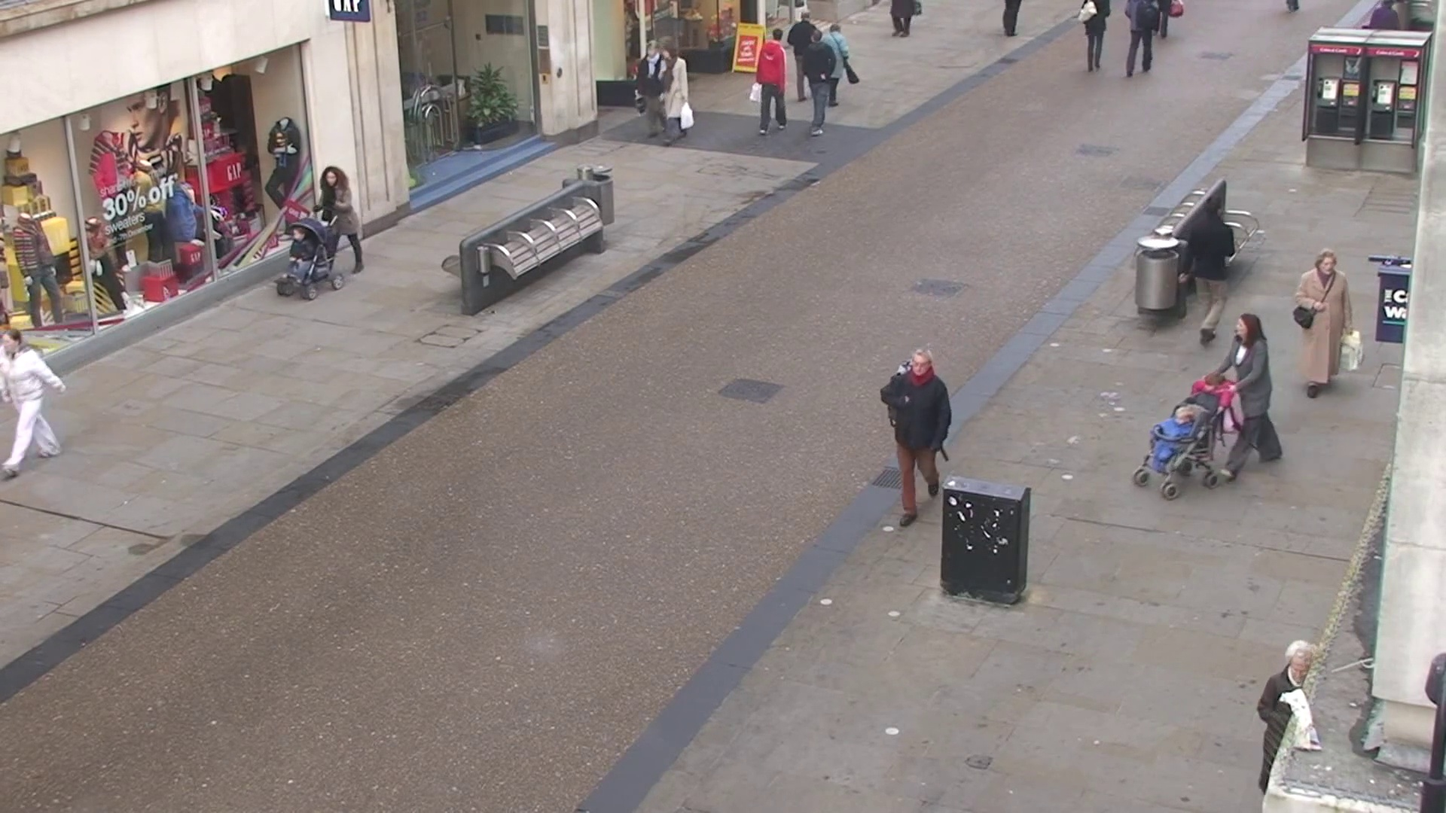person: (880, 349, 953, 528), (0, 321, 69, 478), (1258, 637, 1326, 794), (1291, 248, 1350, 402), (1179, 186, 1238, 337), (1225, 312, 1281, 470), (786, 4, 835, 114), (319, 165, 368, 273), (752, 25, 792, 137), (653, 44, 694, 139), (1125, 0, 1161, 76), (1078, 0, 1110, 75)
